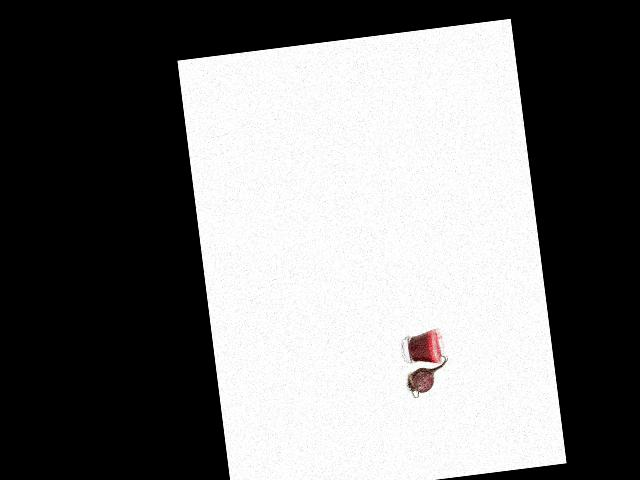beet: (403, 349, 451, 398)
